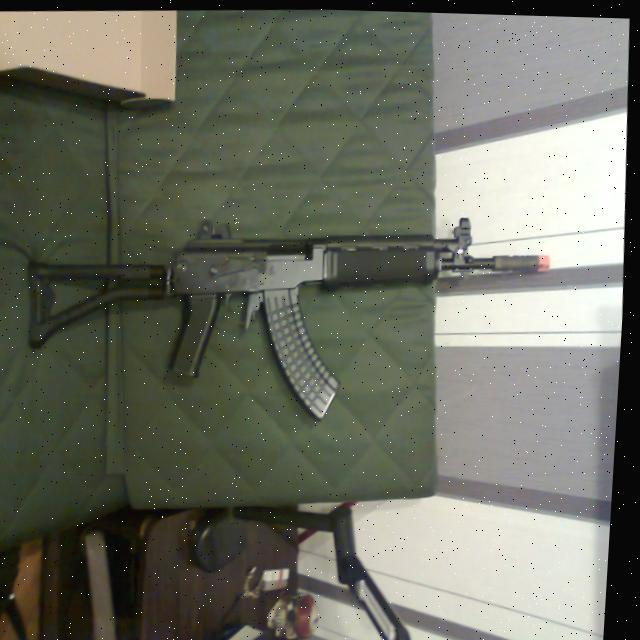firearm: (19, 199, 562, 436)
